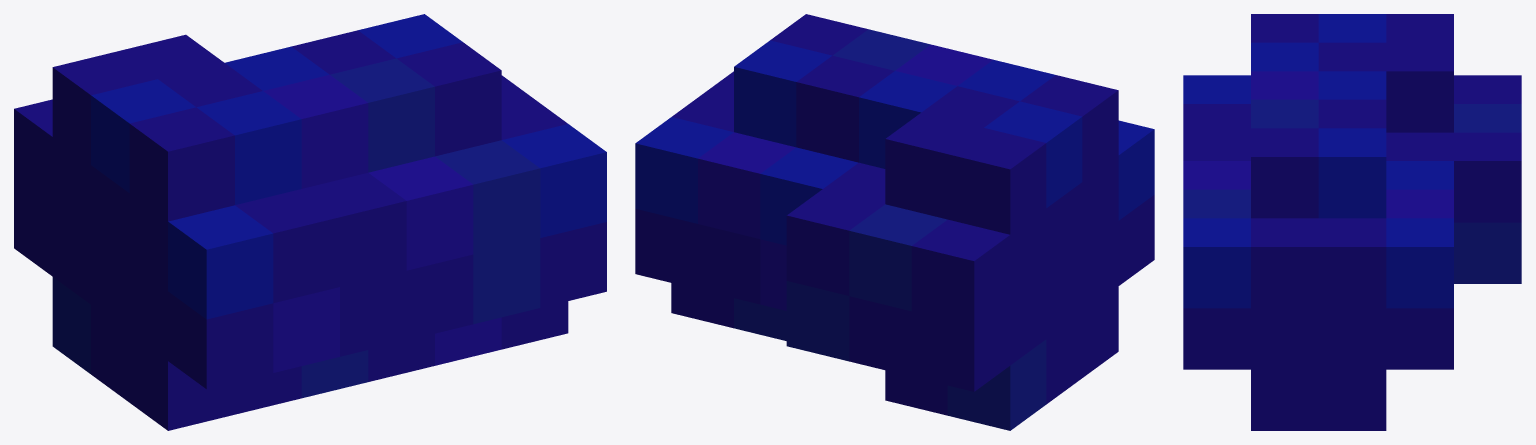
Rendered from FurroUpperArmL.fbx.
3 views of the same model, side by side, from view 1: azimuth 30°, elevation 25°; view 2: azimuth 150°, elevation 25°; view 3: azimuth 270°, elevation 25° (orthographic). The views are drawn at different scales.
Visible parts, largest first — view 1: FurroUpperArmL; view 2: FurroUpperArmL; view 3: FurroUpperArmL.
Part boxes in pixels (x1=…): FurroUpperArmL: x1=14, y1=14, x2=606, y2=430; FurroUpperArmL: x1=635, y1=14, x2=1154, y2=430; FurroUpperArmL: x1=1183, y1=14, x2=1521, y2=430.
Size of the model in its own units: 60 by 40 by 50.
